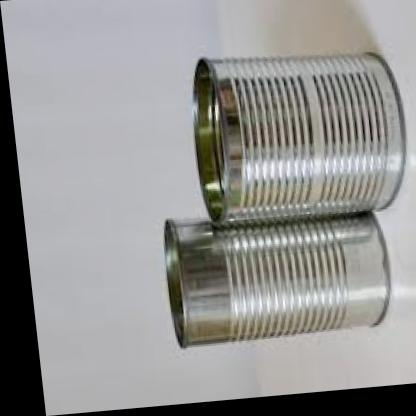trash: (194, 53, 405, 225), (165, 214, 389, 346)
